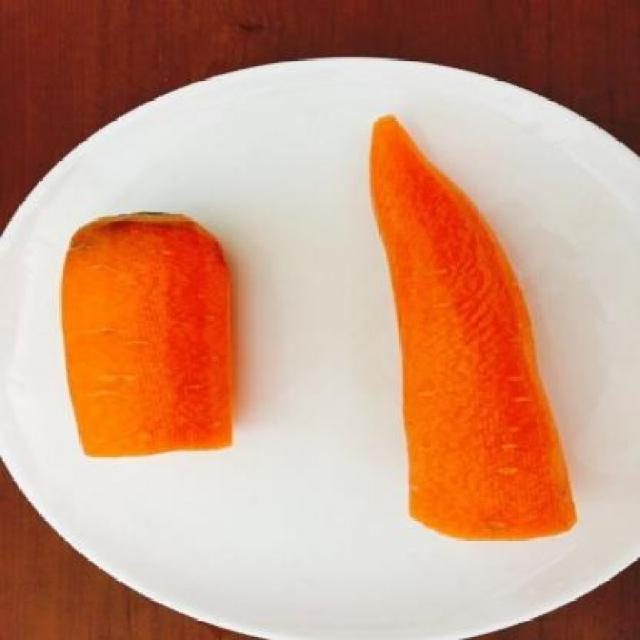carrot: (350, 110, 587, 543), (55, 205, 246, 471)
